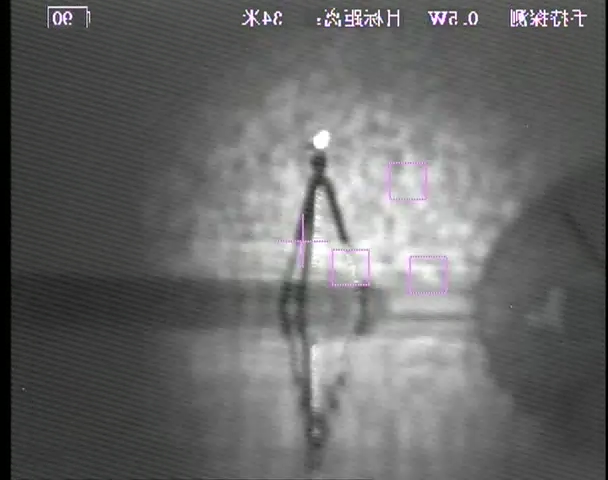my: (309, 128, 334, 151)
